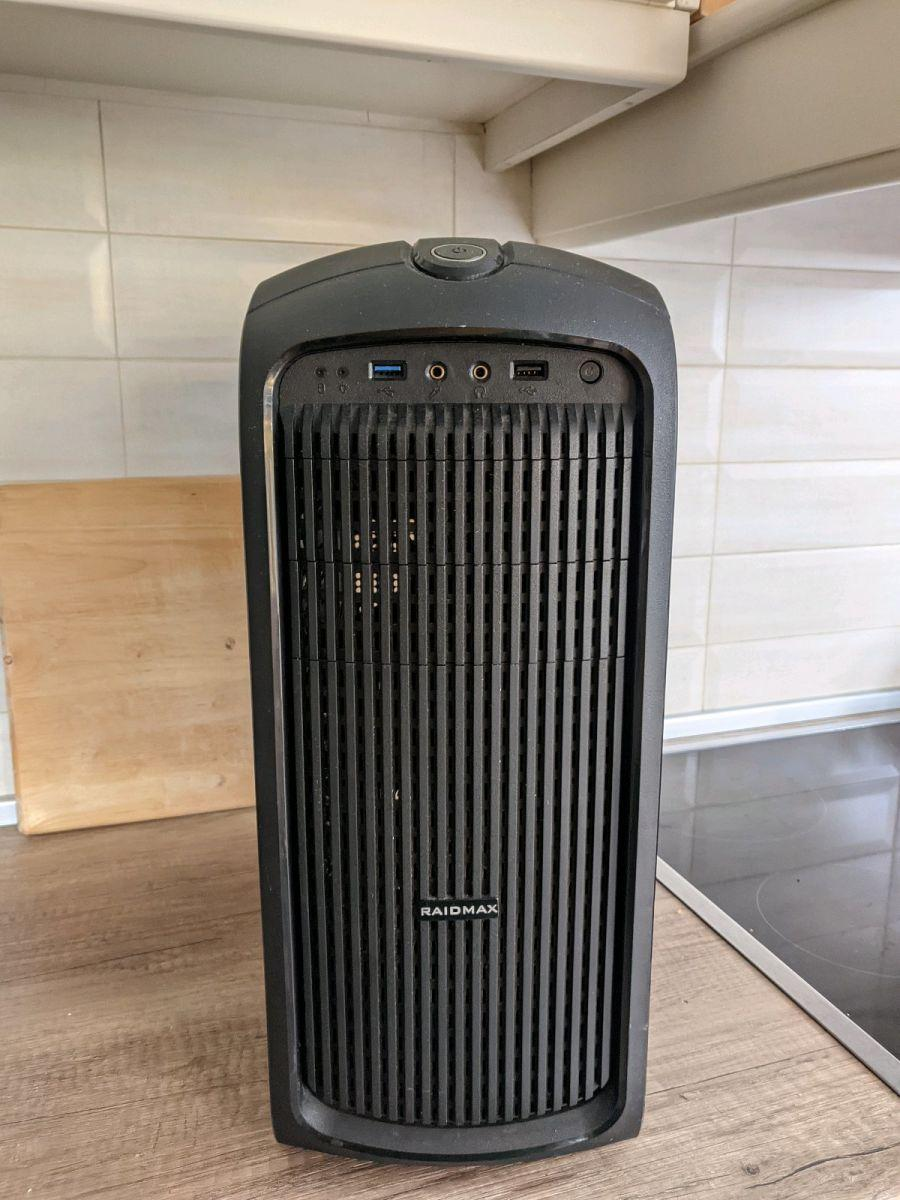DESKTOP PC: (242, 245, 666, 1163)
